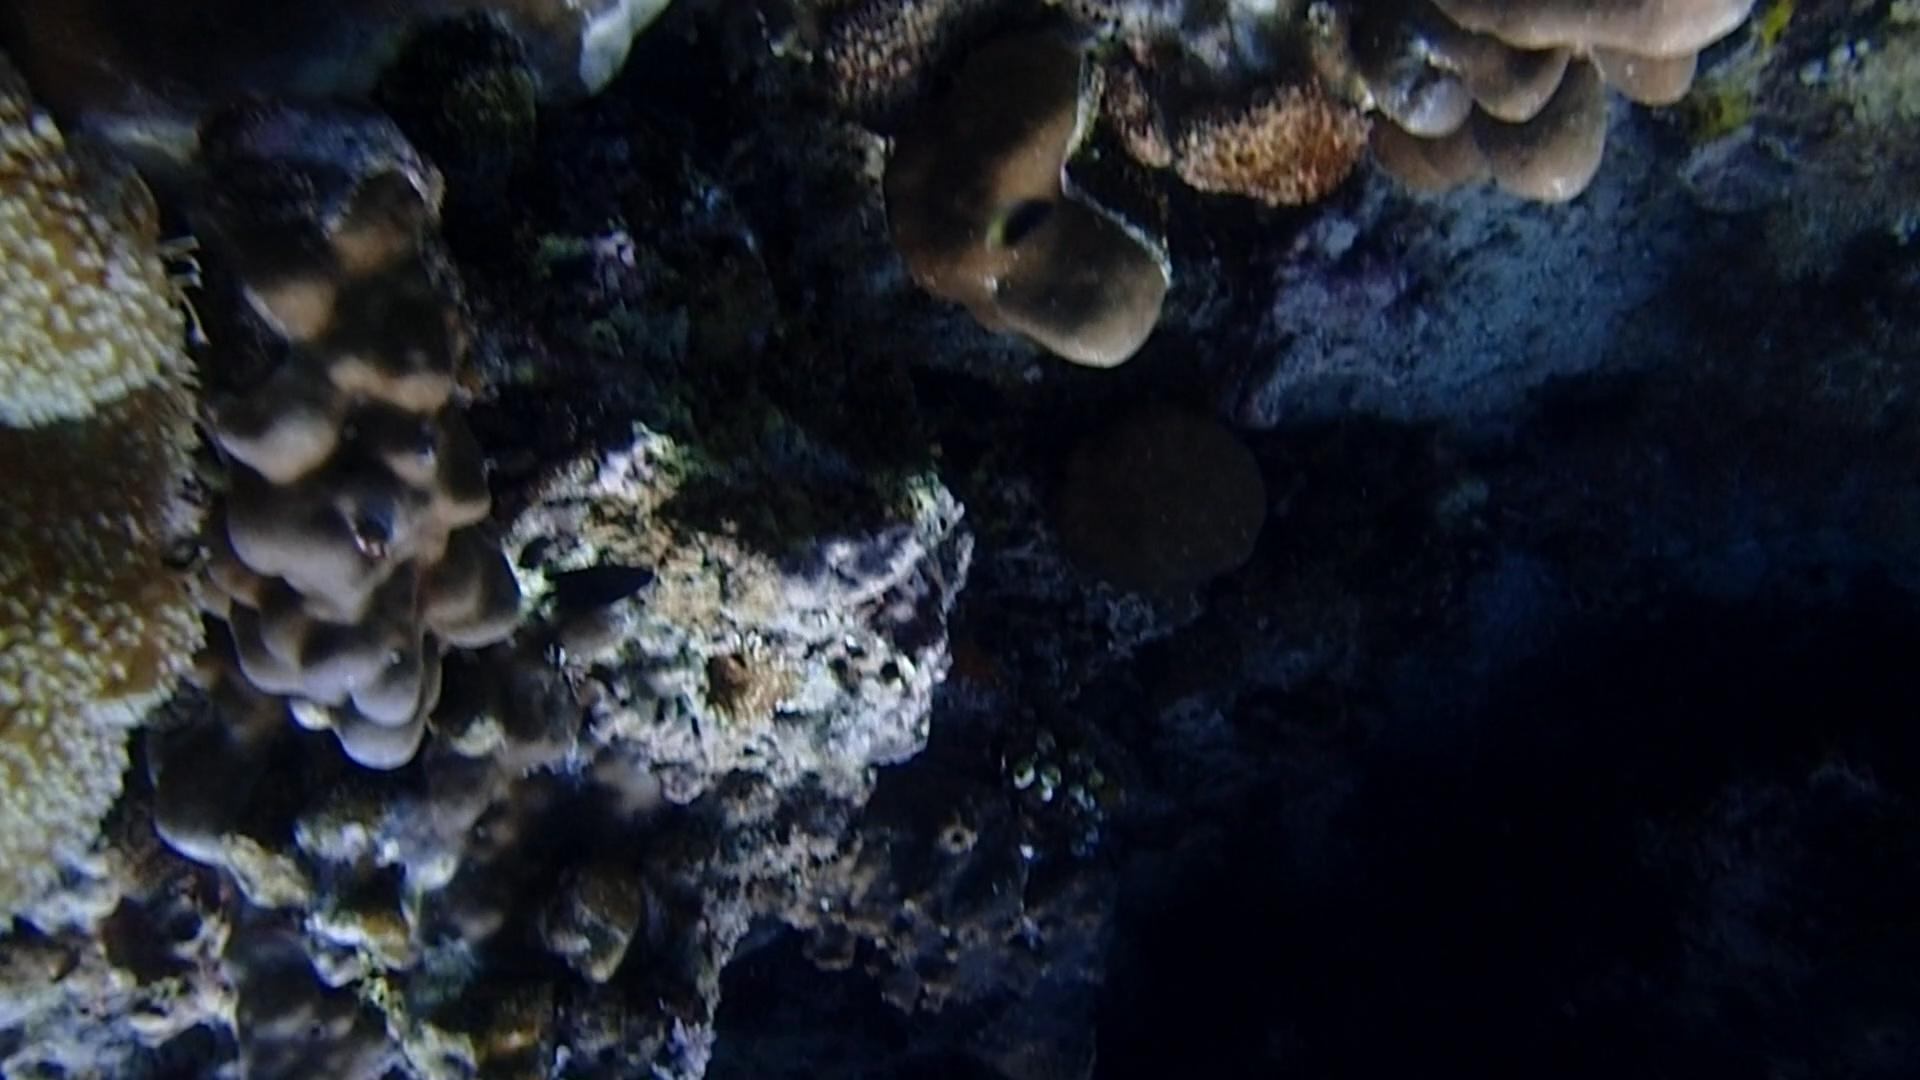Dark Fish: (535, 545, 654, 634)
Yellow Tail: (972, 187, 1054, 268)
